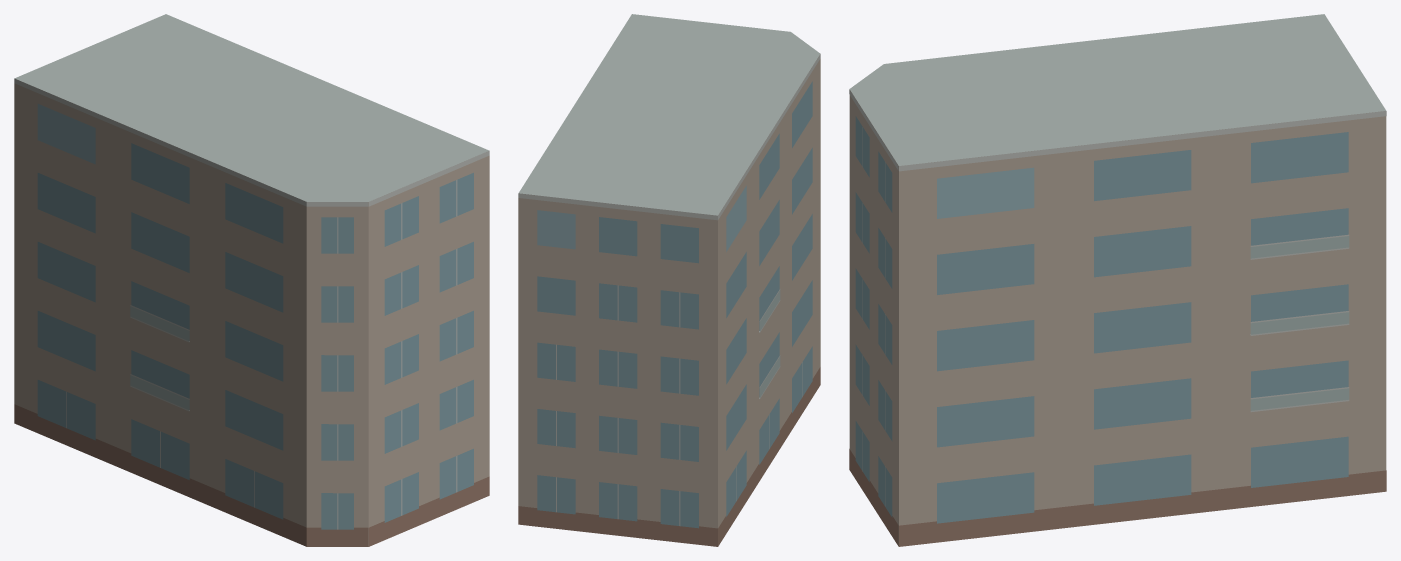
The model's file is survey-upis-32562375.glb.
The picture shows the model from 3 angles, left to right: view 1: azimuth 30°, elevation 25°; view 2: azimuth 150°, elevation 25°; view 3: azimuth 270°, elevation 25°; orthographic projection. The views are drawn at different scales.
Visible parts, largest first — view 1: survey-upis-32562375.tmp; view 2: survey-upis-32562375.tmp; view 3: survey-upis-32562375.tmp.
Boxes of the visible parts, x1=… form: survey-upis-32562375.tmp: x1=14, y1=14, x2=489, y2=546; survey-upis-32562375.tmp: x1=518, y1=14, x2=820, y2=546; survey-upis-32562375.tmp: x1=849, y1=14, x2=1386, y2=546.
Bounding box in the file's own units: 14.92 × 17.4 × 22.25.
